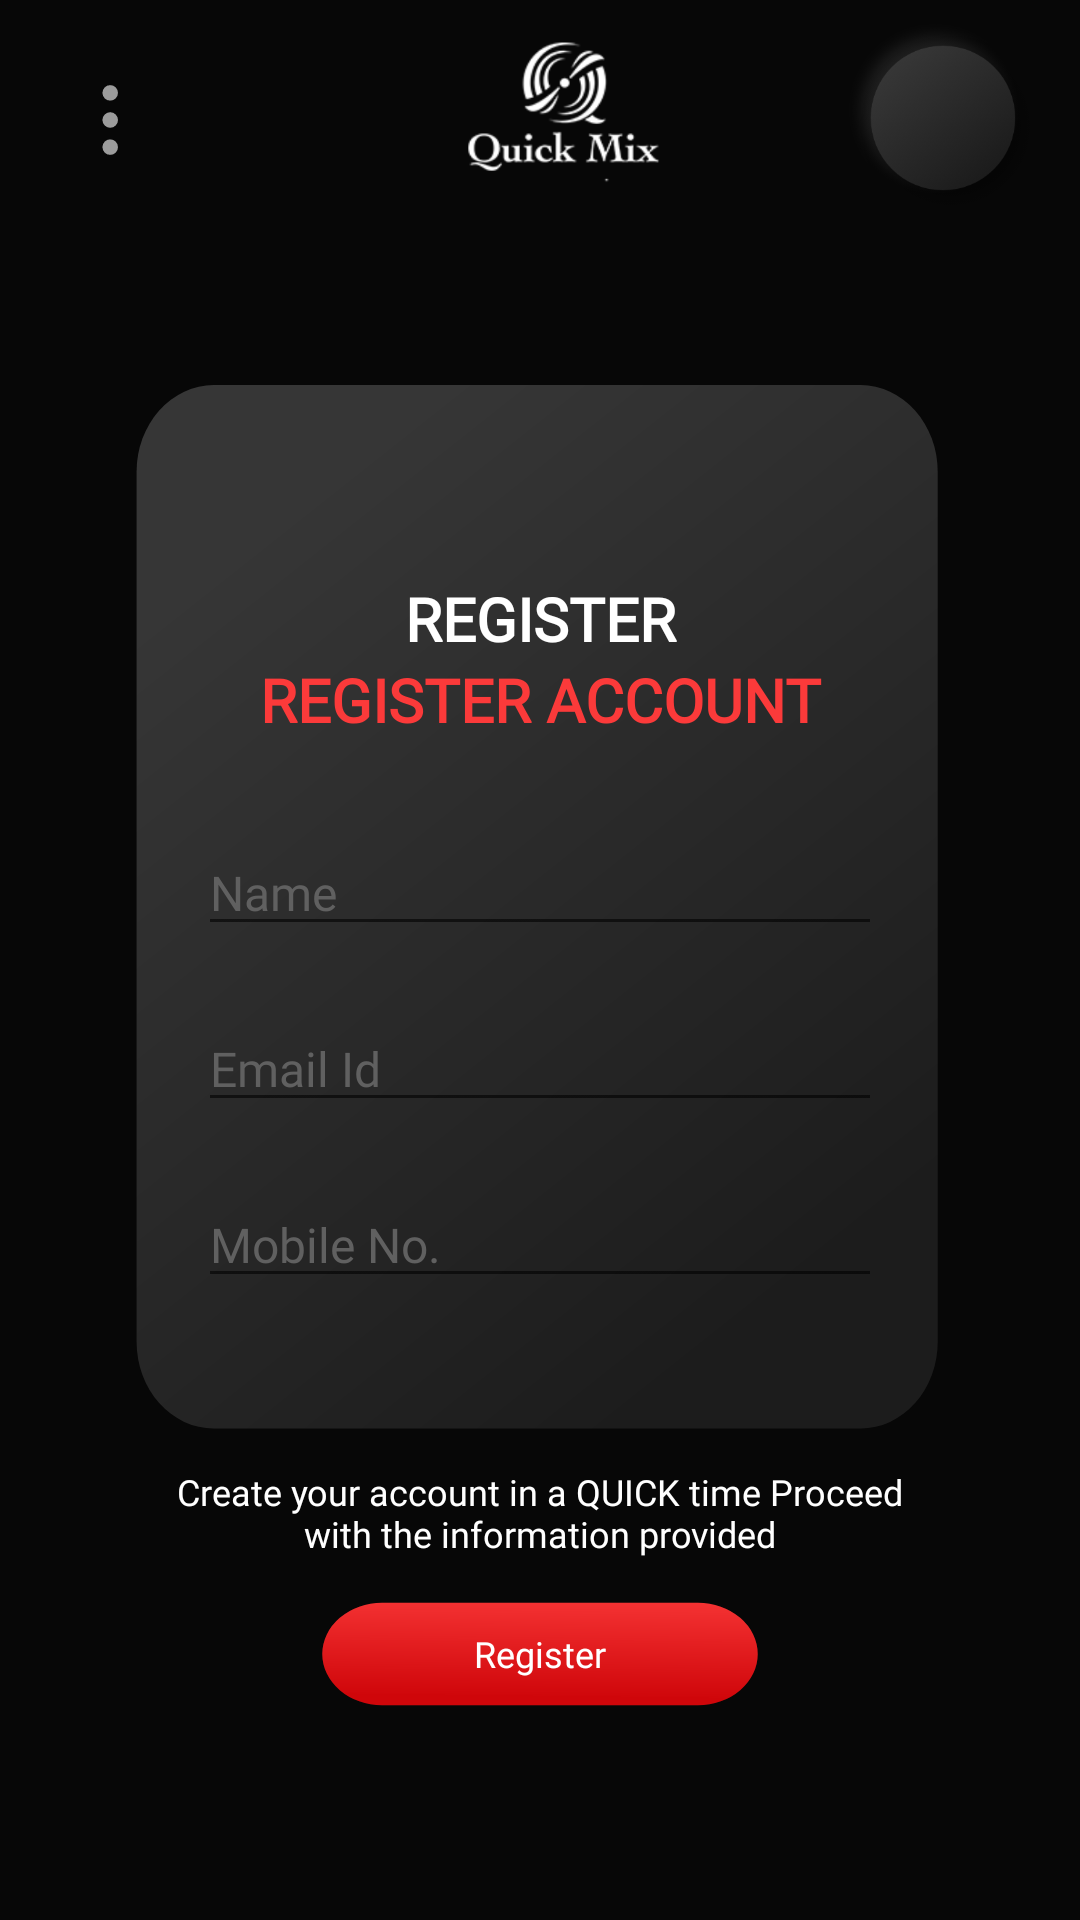

Point at icon controls on the screen. Image size 1080*1920, points as (x,y).
menu: (110,120)
